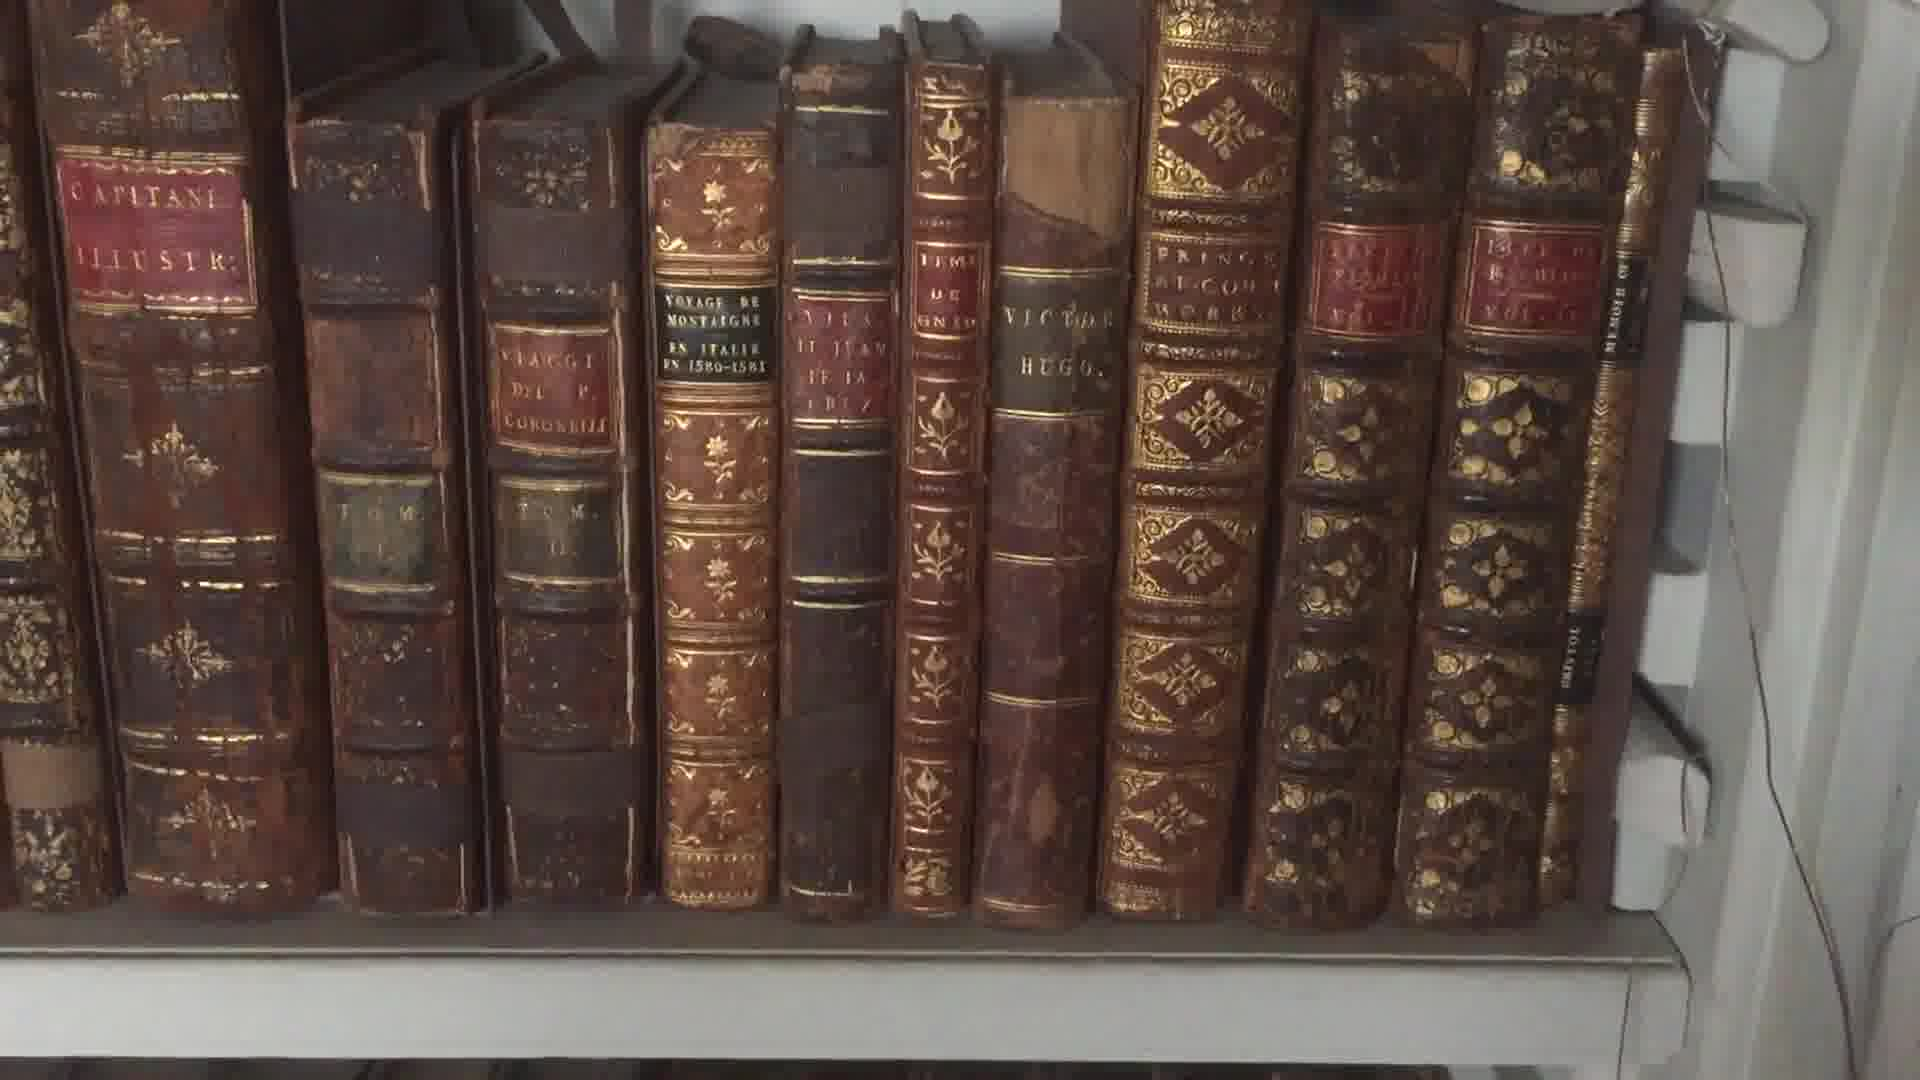Aa6-38: (32, 7, 336, 914)
Aa6-39_40: (276, 112, 653, 909)
Aa6-41: (626, 80, 781, 916)
Aa6-42: (760, 47, 890, 924)
Aa6-43: (891, 58, 986, 927)
Aa6-44: (985, 84, 1116, 939)
Aa6-45: (1120, 5, 1287, 934)
Aa6-46-47: (1233, 15, 1626, 952)
Aa6-48: (1519, 22, 1733, 942)
